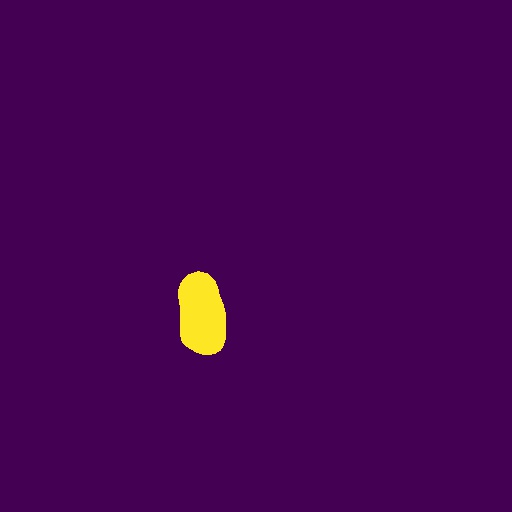Pituirity_tumour: (178, 271, 226, 355)
